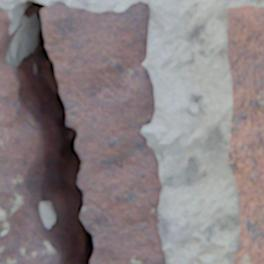brick: (227, 5, 263, 263)
broken_brick: (41, 1, 165, 263), (0, 56, 58, 263), (0, 6, 11, 44)
crack: (0, 0, 94, 263)
